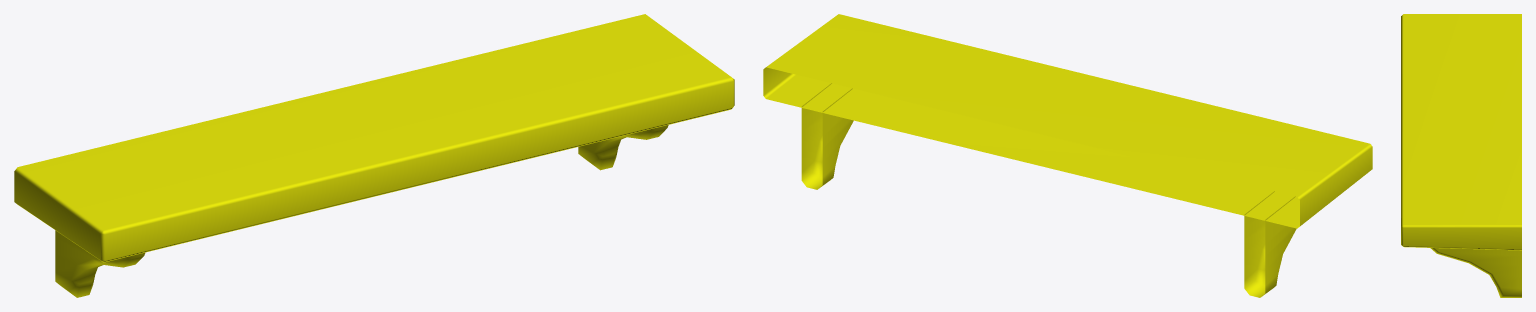
The model's file is SM_smShelf.fbx.
3 renders of one model, left to right at view 1: azimuth 30°, elevation 25°; view 2: azimuth 150°, elevation 25°; view 3: azimuth 270°, elevation 25°, orthographic. The views are drawn at different scales.
Parts seen in each view (by area): view 1: SM_smShelf; view 2: SM_smShelf; view 3: SM_smShelf.
Boxes of the visible parts, box(x1,y1,x2,y2) form: SM_smShelf: box(14, 14, 734, 297); SM_smShelf: box(763, 14, 1372, 297); SM_smShelf: box(1401, 14, 1521, 297).
Size of the model in its own units: 180 by 35.23 by 43.13.
